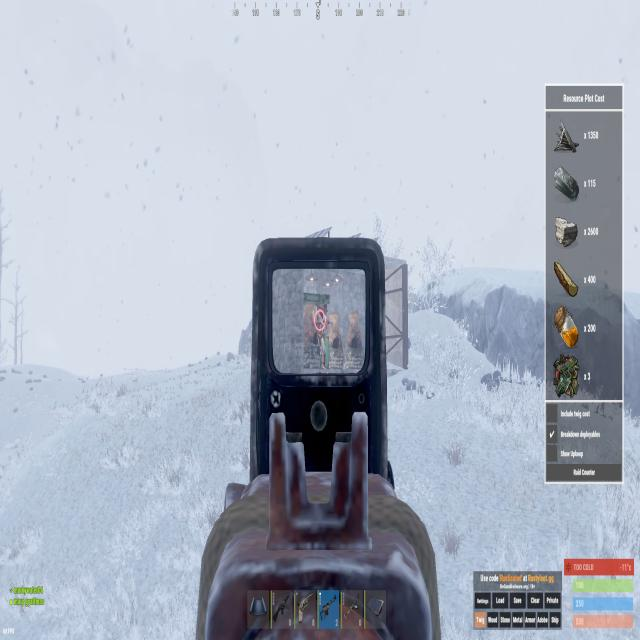Player: (314, 303, 328, 370)
